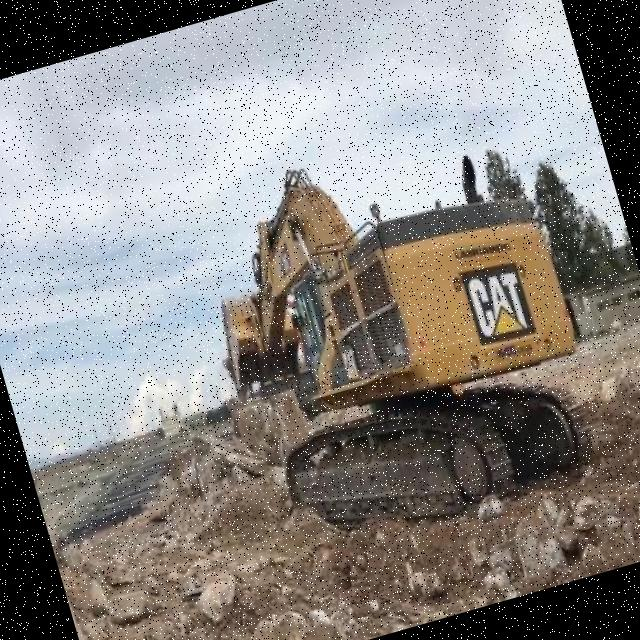Excavator: (166, 105, 620, 579)
